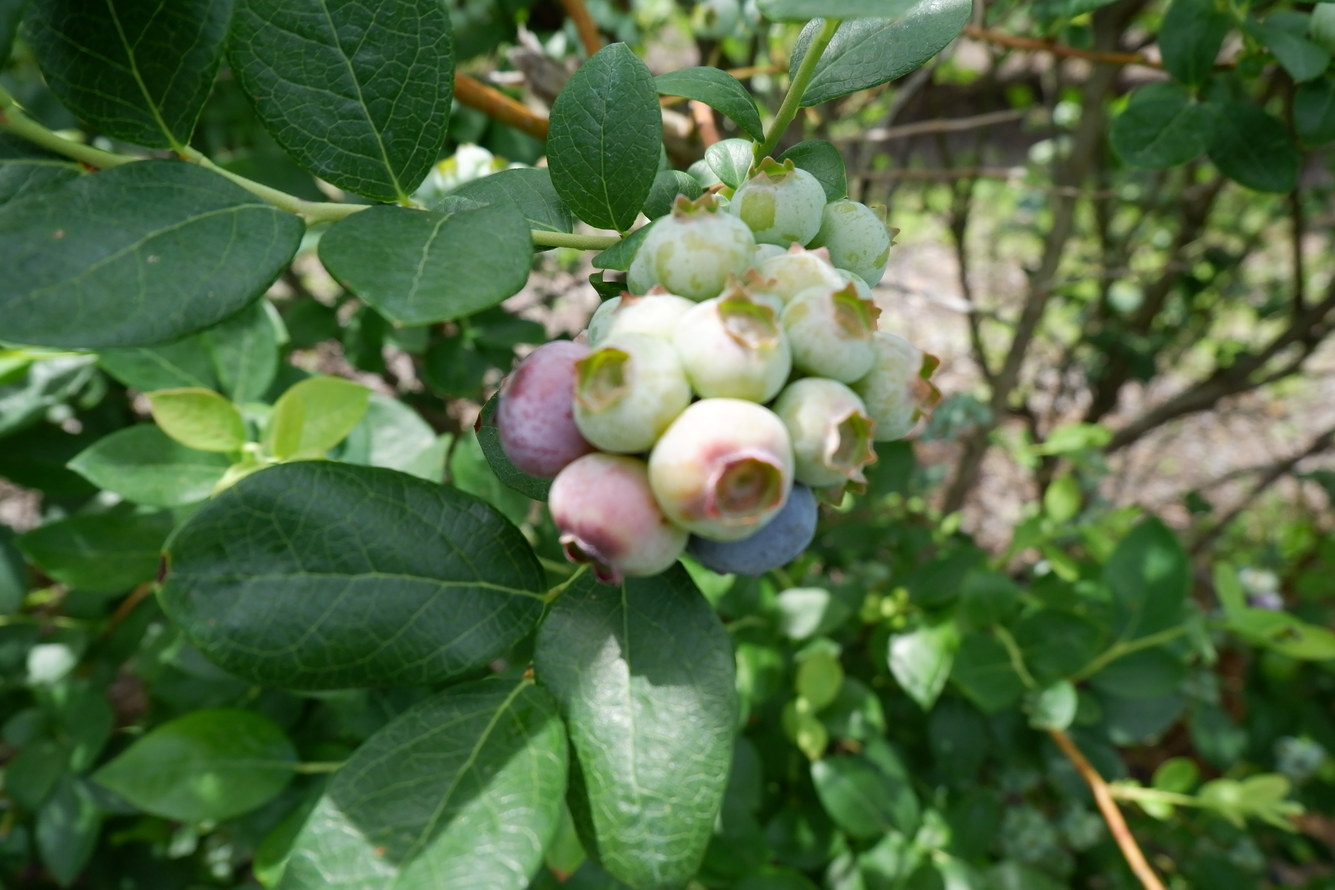Immature: (654, 400, 791, 536), (551, 456, 687, 580), (576, 330, 689, 451), (495, 344, 594, 477), (675, 293, 788, 398), (648, 195, 756, 299), (776, 380, 874, 487), (850, 333, 936, 438), (787, 285, 877, 381), (732, 161, 826, 244), (811, 201, 894, 284), (757, 242, 852, 308), (605, 292, 689, 338), (720, 269, 783, 322), (629, 229, 663, 294), (587, 295, 627, 347), (839, 271, 872, 302), (749, 245, 789, 269)
Mature: (690, 482, 815, 575)
